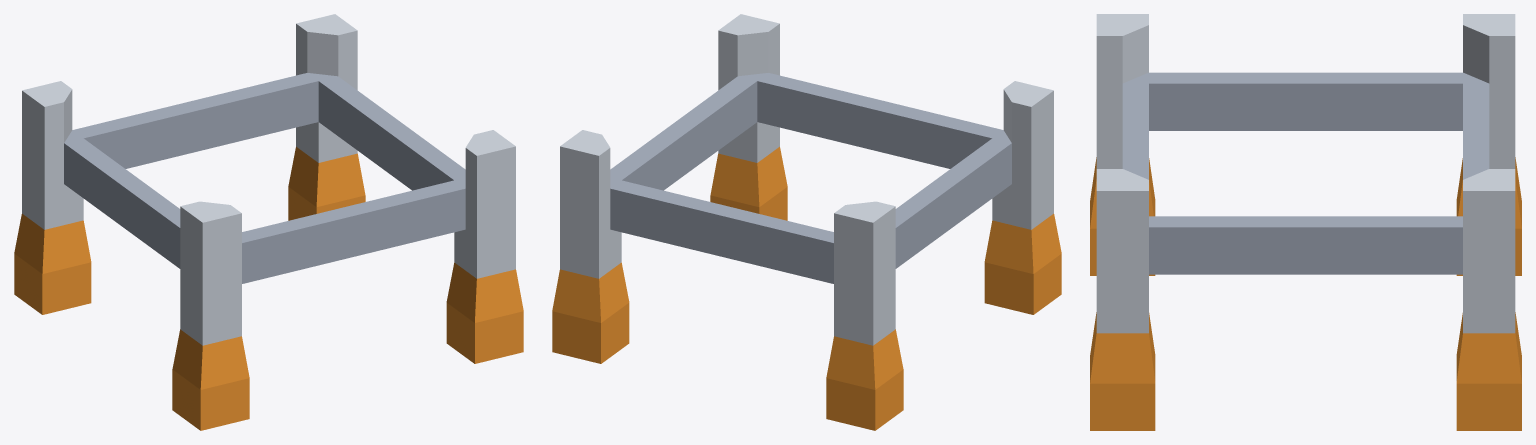
Rendered from supports_low.glb.
3 renders of one model, left to right at view 1: azimuth 30°, elevation 25°; view 2: azimuth 150°, elevation 25°; view 3: azimuth 270°, elevation 25°, orthographic. The views are drawn at different scales.
Parts seen in each view (by area): view 1: supports_low; view 2: supports_low; view 3: supports_low.
Boxes of the visible parts, box(x1,y1,x2,y2) form: supports_low: box(14, 14, 523, 430); supports_low: box(552, 14, 1061, 430); supports_low: box(1090, 14, 1521, 430).
Bounding box in the file's own units: 0.825 × 0.5 × 0.825.
